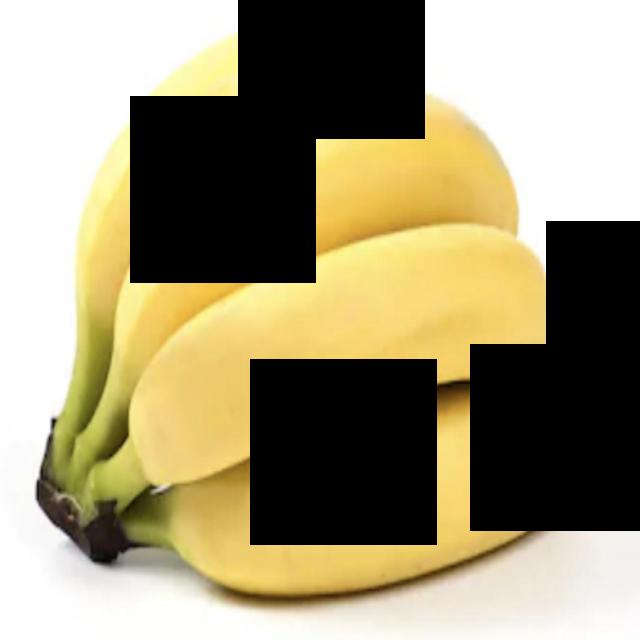banana: (61, 91, 536, 534), (90, 218, 584, 560), (26, 18, 410, 451), (111, 375, 616, 633)
